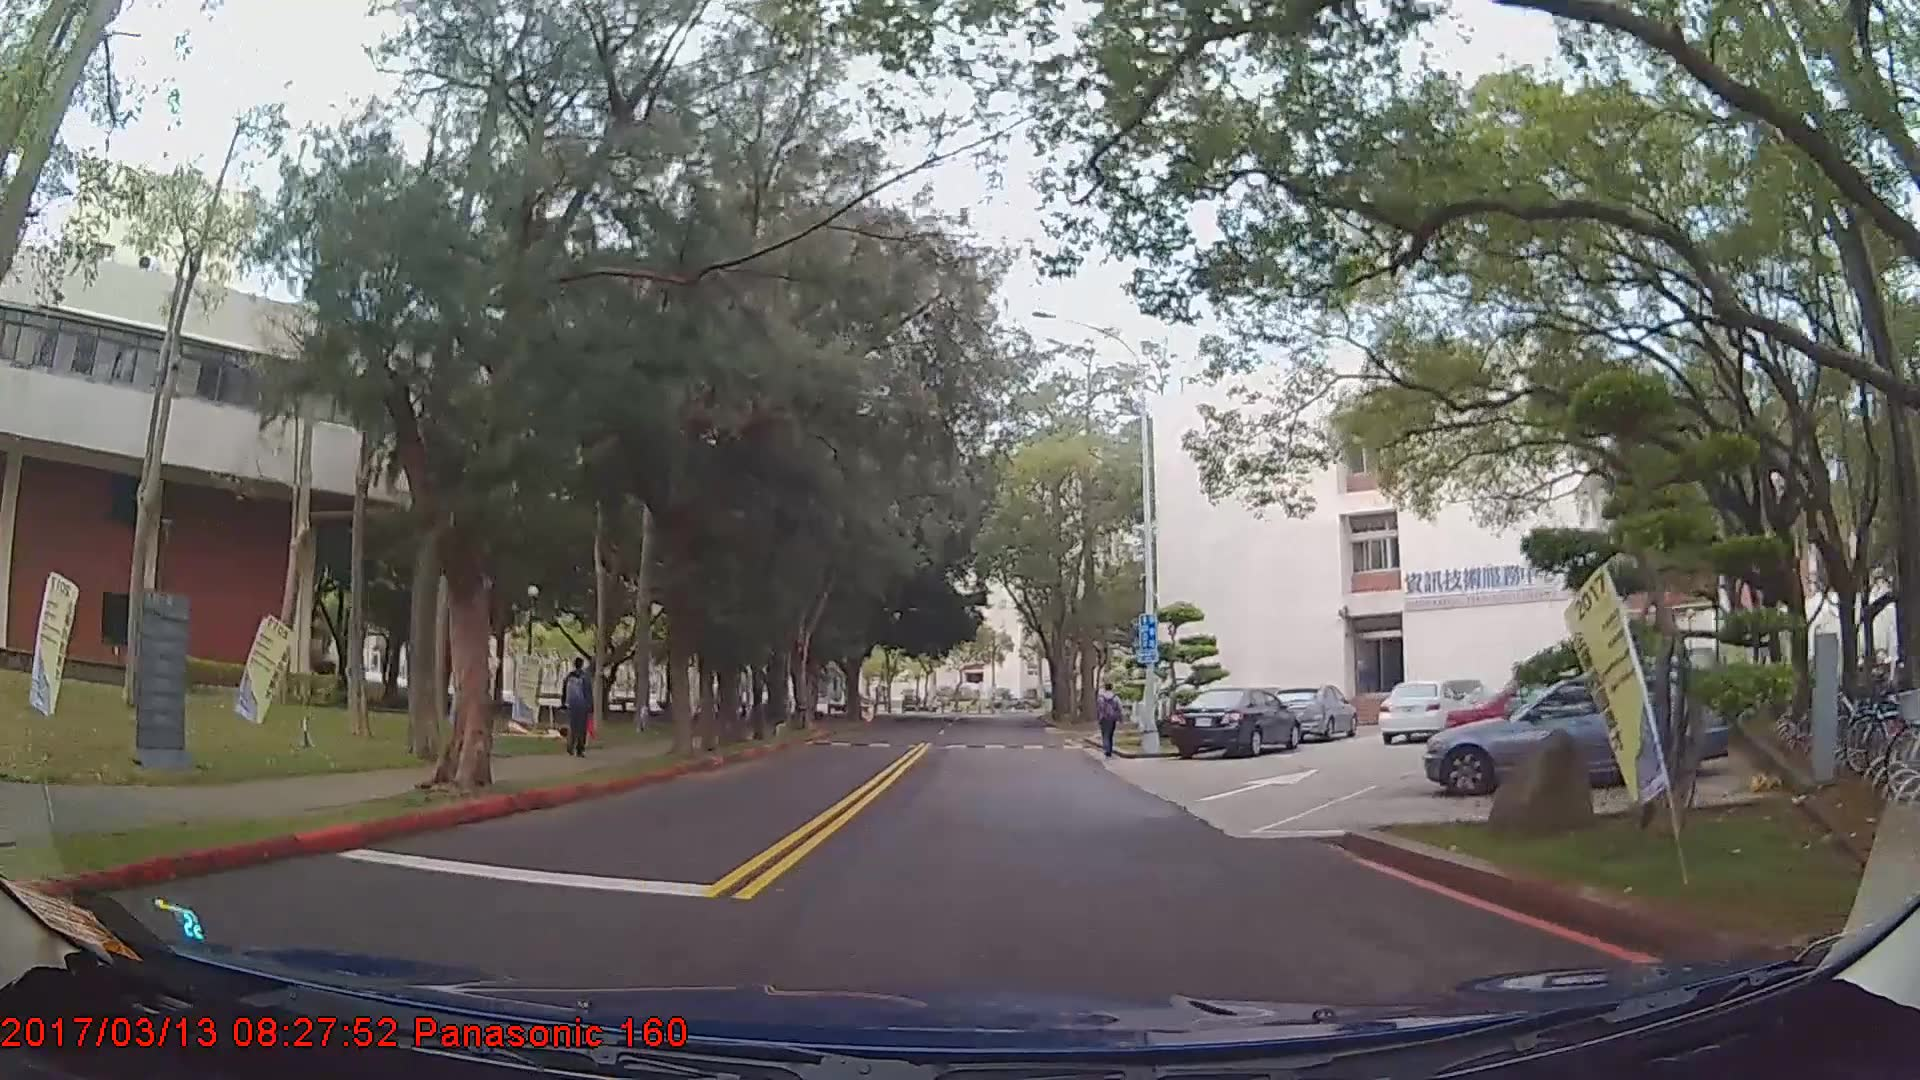pedestrian: (559, 657, 594, 757), (1095, 686, 1123, 762)
vehicle: (1422, 668, 1726, 799), (1168, 682, 1303, 756), (1373, 676, 1460, 742), (1275, 682, 1358, 741)
